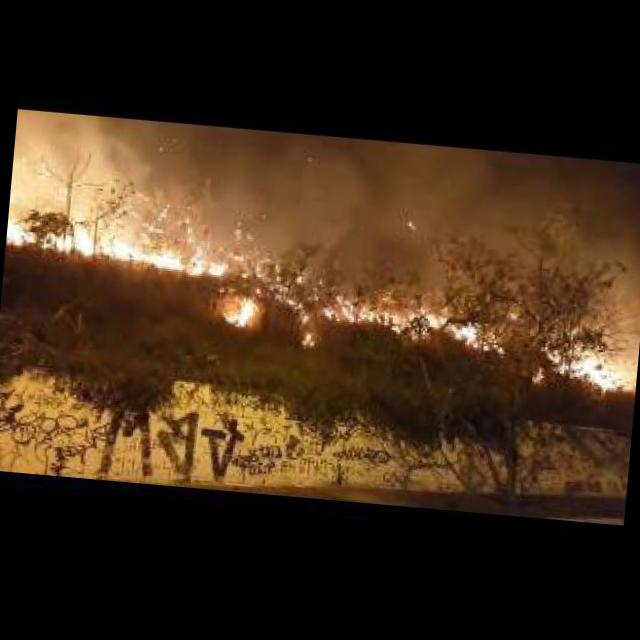fire: (5, 178, 232, 274), (324, 286, 516, 344), (544, 339, 638, 396), (272, 270, 312, 318), (223, 298, 260, 328), (301, 330, 319, 350)
